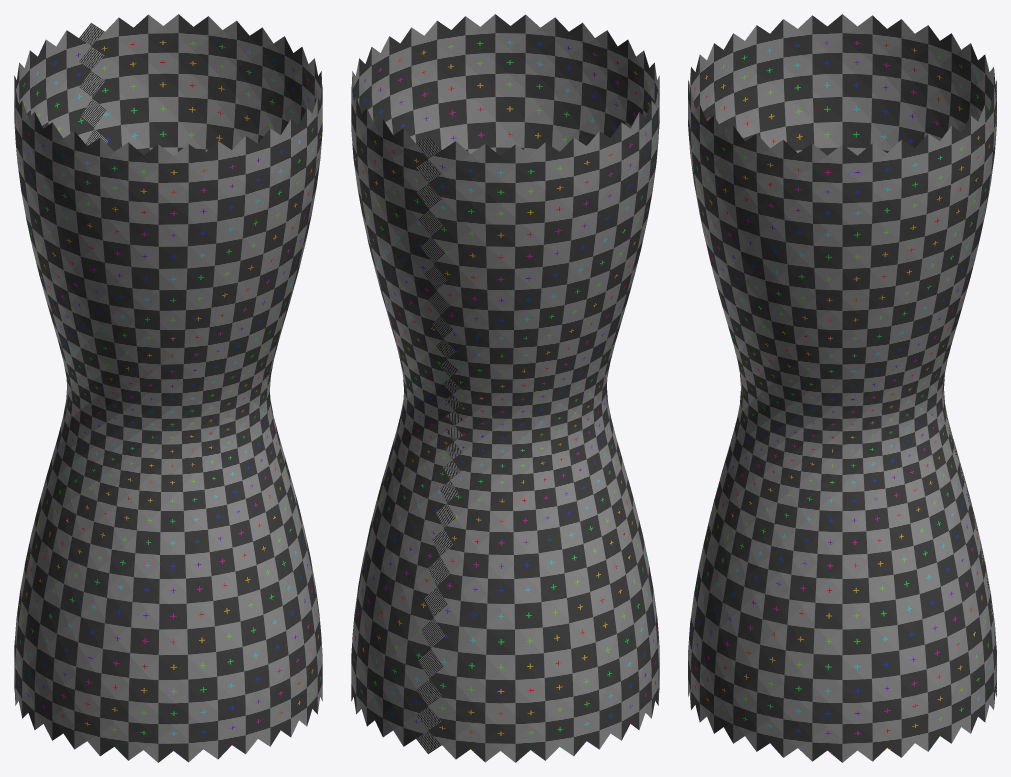
Rendered from Hyper.glb.
3 renders of one model, left to right at view 1: azimuth 30°, elevation 25°; view 2: azimuth 150°, elevation 25°; view 3: azimuth 270°, elevation 25°, orthographic.
Parts seen in each view (by area): view 1: Cylinder; view 2: Cylinder; view 3: Cylinder.
Boxes of the visible parts, <box> form: Cylinder: <box>14,14,322,762</box>; Cylinder: <box>351,14,659,762</box>; Cylinder: <box>688,14,996,762</box>.
Size of the model in its own units: 2 by 4.43 by 2.
Materials: 1 (1 with a texture image).
